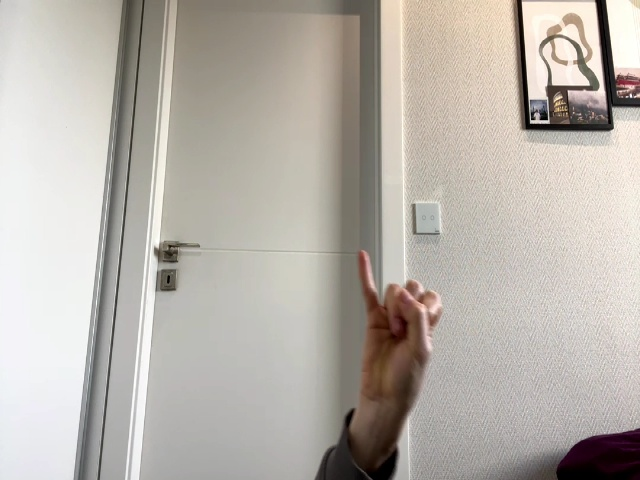I: (356, 250, 443, 407)
